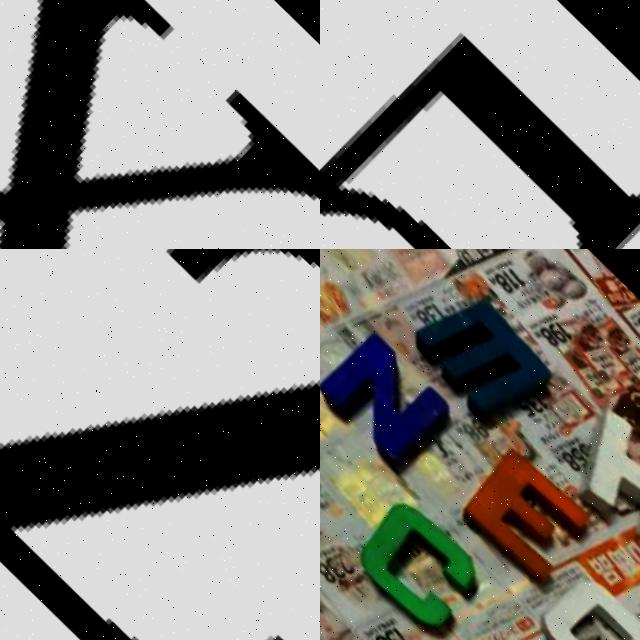5: (320, 0, 640, 249)
C: (352, 497, 497, 640)
E: (457, 439, 604, 586)
H: (555, 396, 640, 563)
M: (410, 283, 561, 433)
N: (320, 328, 455, 474)
Q: (523, 567, 640, 640)
X: (0, 0, 320, 249)
Z: (0, 249, 320, 640)
